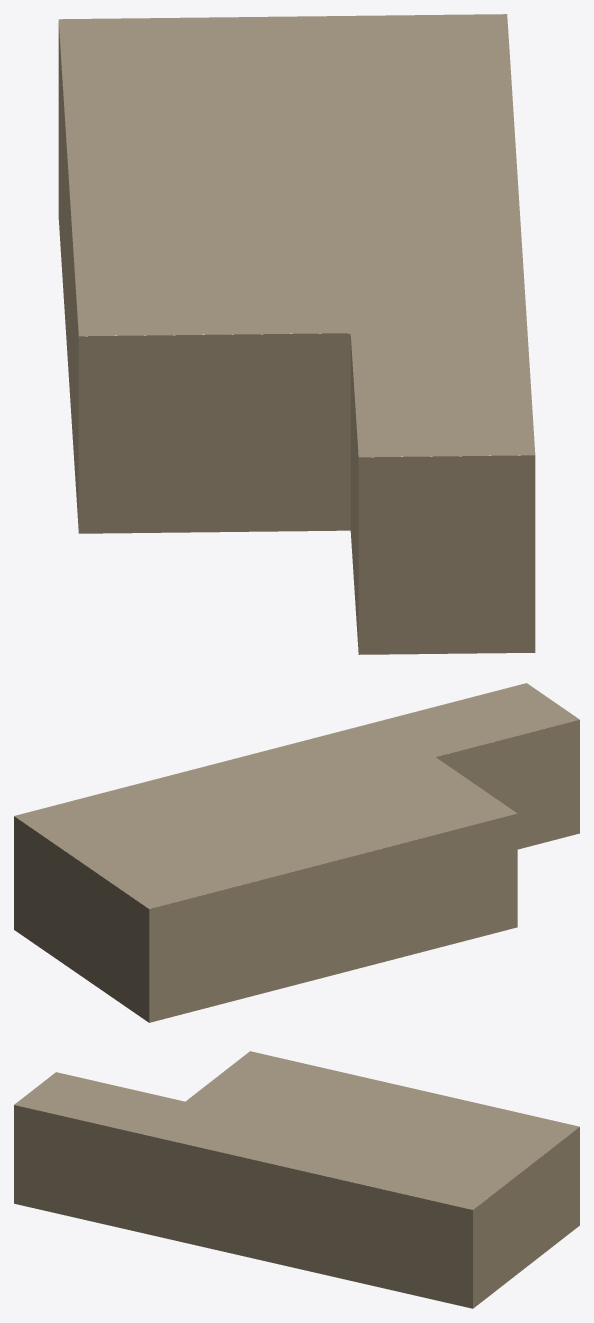
File: tile--3_-14.glb
3 views of the same model, one above another, from view 1: azimuth 30°, elevation 25°; view 2: azimuth 150°, elevation 25°; view 3: azimuth 270°, elevation 25° (orthographic). The views are drawn at different scales.
Visible parts, largest first — view 1: roof, wall; view 2: wall, roof; view 3: wall, roof.
Part boxes in pixels (x1,y1,x2,y2): roof: [58, 14, 535, 457]; wall: [58, 22, 535, 654]; wall: [14, 720, 579, 1022]; roof: [14, 683, 579, 908]; wall: [14, 1105, 579, 1308]; roof: [14, 1051, 579, 1209].
Size of the model in its own units: 16.63 by 4.82 by 25.03.
